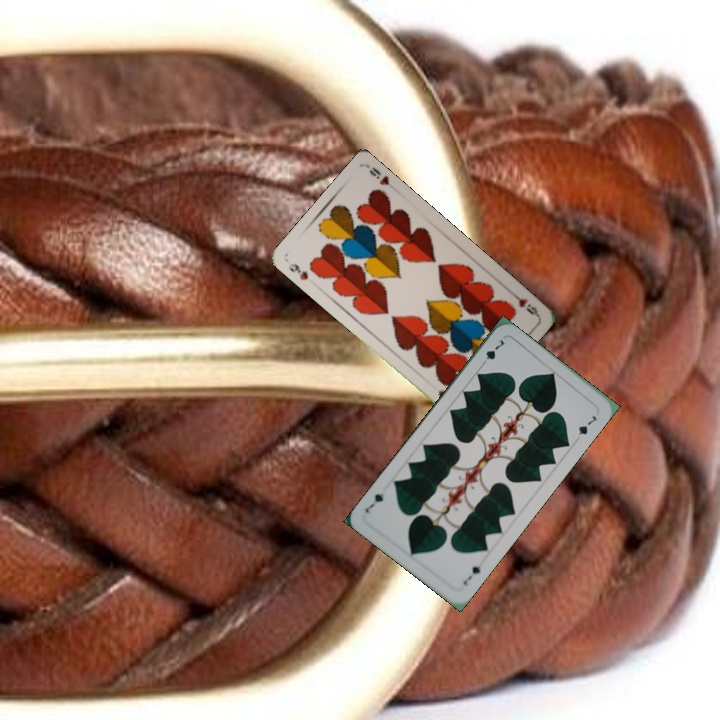G7: (477, 335, 507, 369), (459, 561, 483, 588)
H9: (506, 287, 540, 318), (285, 259, 311, 283)
